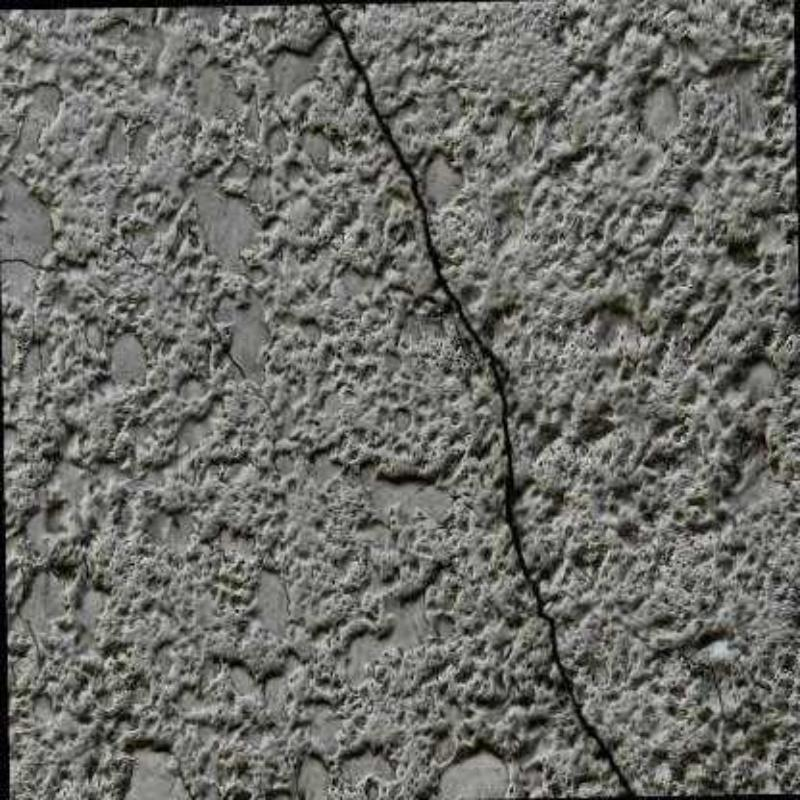pothole: (315, 2, 636, 796)
